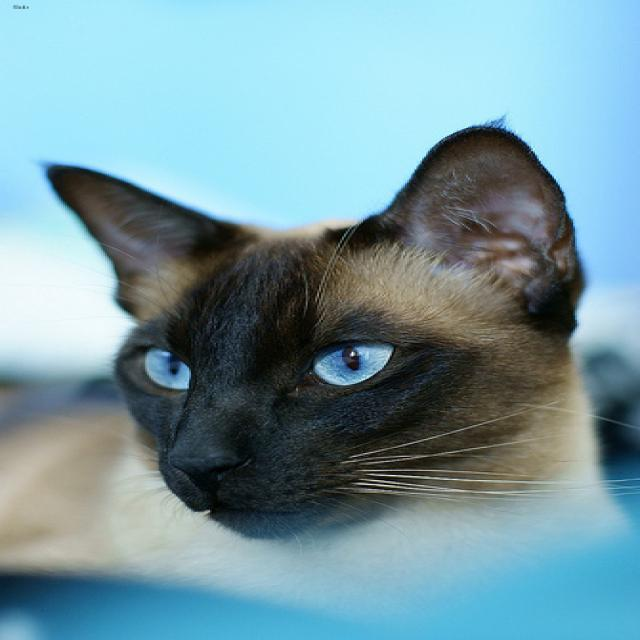Siamese: (42, 122, 588, 543)
